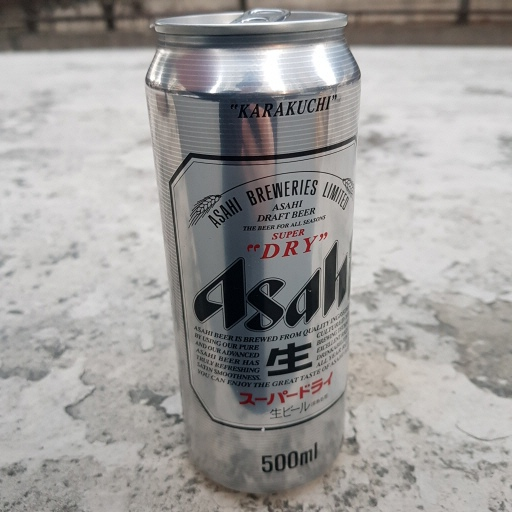Metal_0: (144, 8, 361, 493)
